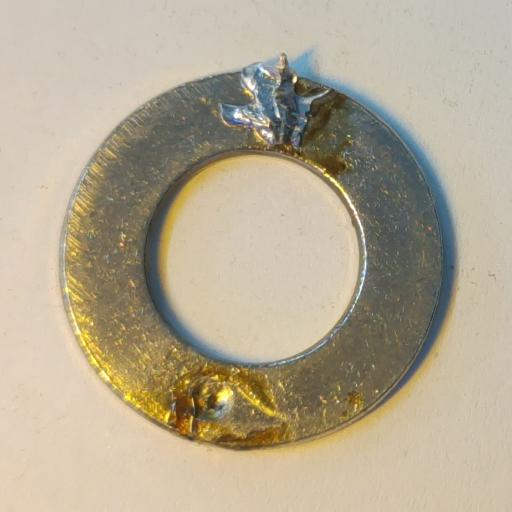excess_material: (218, 52, 333, 153), (165, 363, 296, 451)
